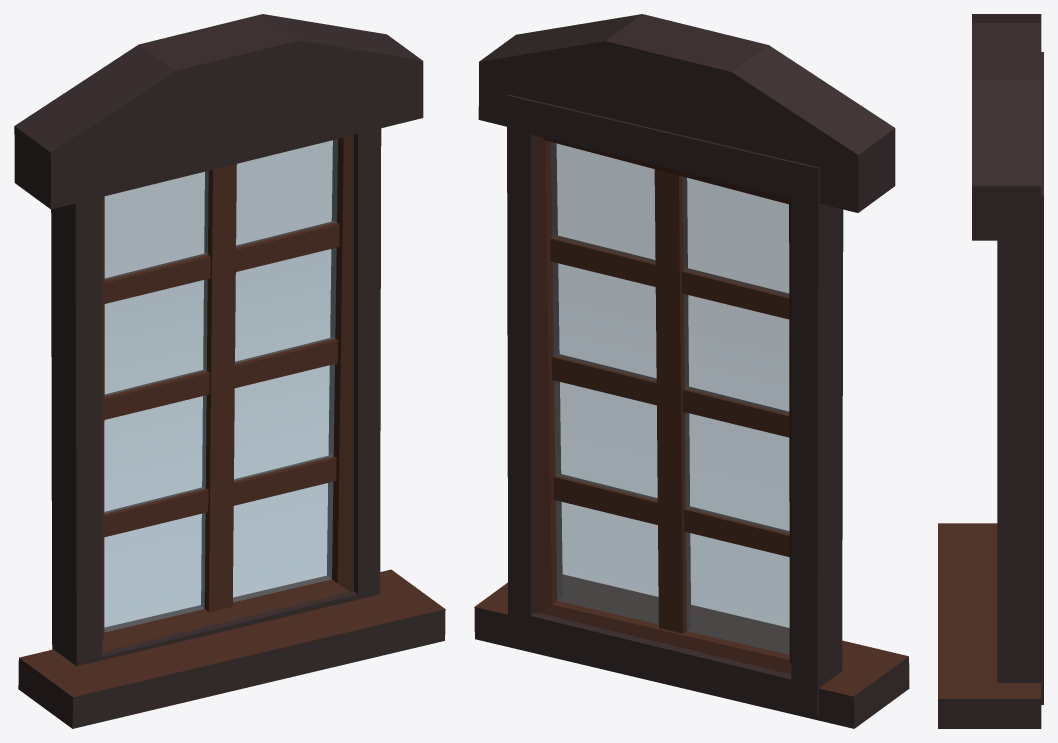
Rendered from Window 2x4 V3 Closed.glb.
The picture shows the model from 3 angles, left to right: view 1: azimuth 30°, elevation 25°; view 2: azimuth 150°, elevation 25°; view 3: azimuth 270°, elevation 25°; orthographic projection. The views are drawn at different scales.
Visible parts, largest first — view 1: Window 2x4 V3 Closed; view 2: Window 2x4 V3 Closed; view 3: Window 2x4 V3 Closed.
Boxes of the visible parts, x1,y1,x2,y2 form: Window 2x4 V3 Closed: [14, 14, 445, 728]; Window 2x4 V3 Closed: [474, 14, 909, 728]; Window 2x4 V3 Closed: [938, 14, 1043, 728].
Size of the model in its own units: 1.42 by 2.23 by 0.3625.
2 materials, 2 textured.
